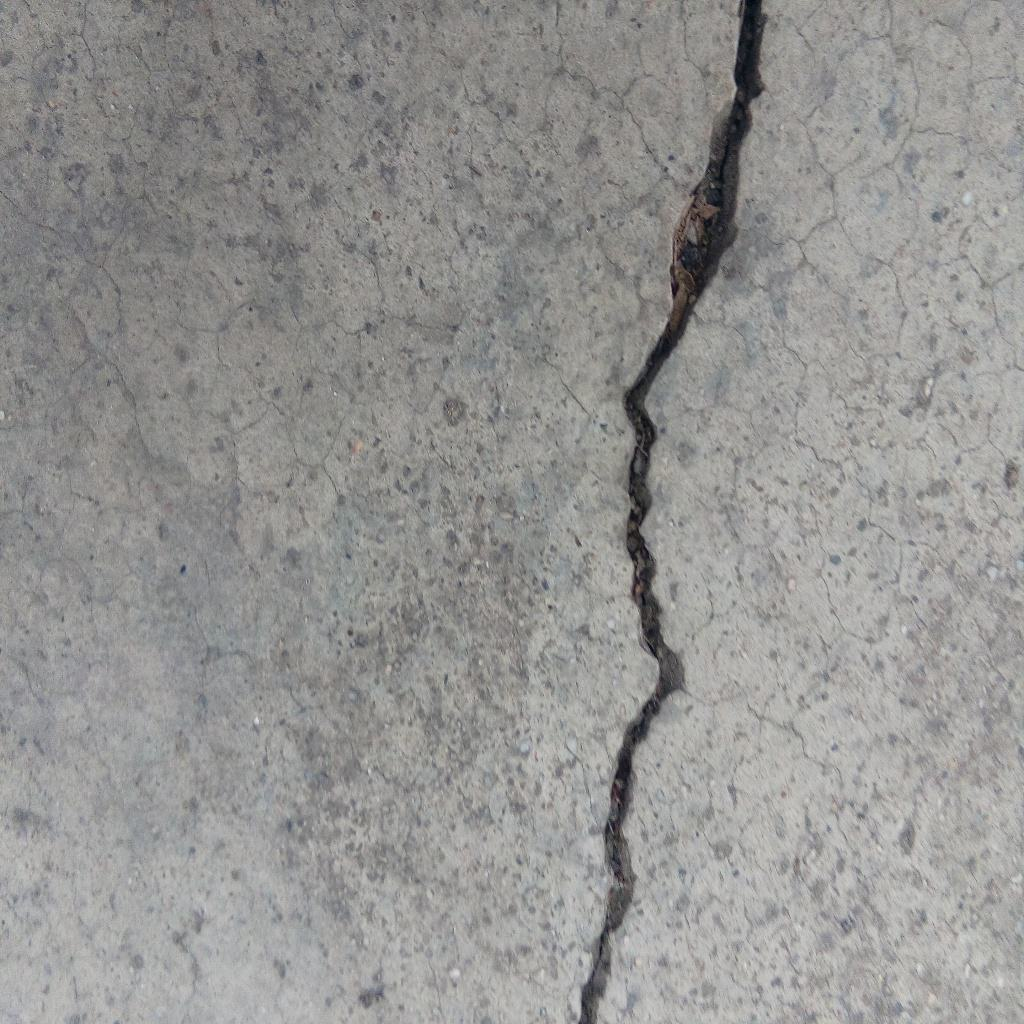Crack: (576, 1, 767, 1024)
